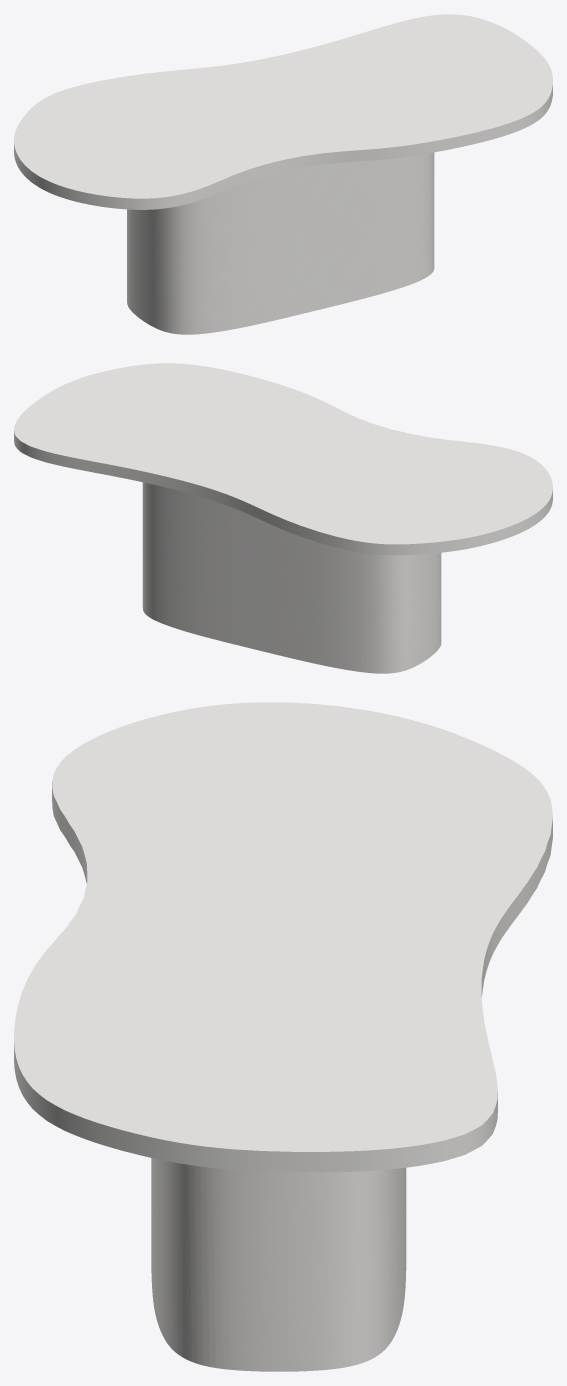
The model's file is purewhite_wave_standard_fixed.glb.
3 views of the same model, one above another, from view 1: azimuth 30°, elevation 25°; view 2: azimuth 150°, elevation 25°; view 3: azimuth 270°, elevation 25° (orthographic). The views are drawn at different scales.
Visible parts, largest first — view 1: standard_wave, fixed; view 2: standard_wave, fixed; view 3: standard_wave, fixed.
Part boxes in pixels (x1,y1,x2,y2): standard_wave: (14,14,552,209); fixed: (127,152,434,334); standard_wave: (14,363,552,555); fixed: (142,482,441,673); standard_wave: (14,702,552,1172); fixed: (151,1158,406,1371).
Size of the model in its own units: 7.5 by 2.5 by 3.8.
Materials: 1 (1 with a texture image).
